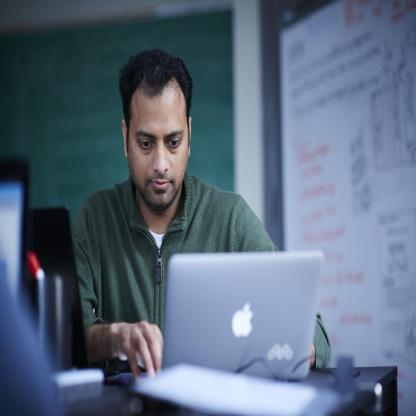board: (163, 256, 330, 392), (28, 206, 145, 371), (0, 158, 29, 291)
